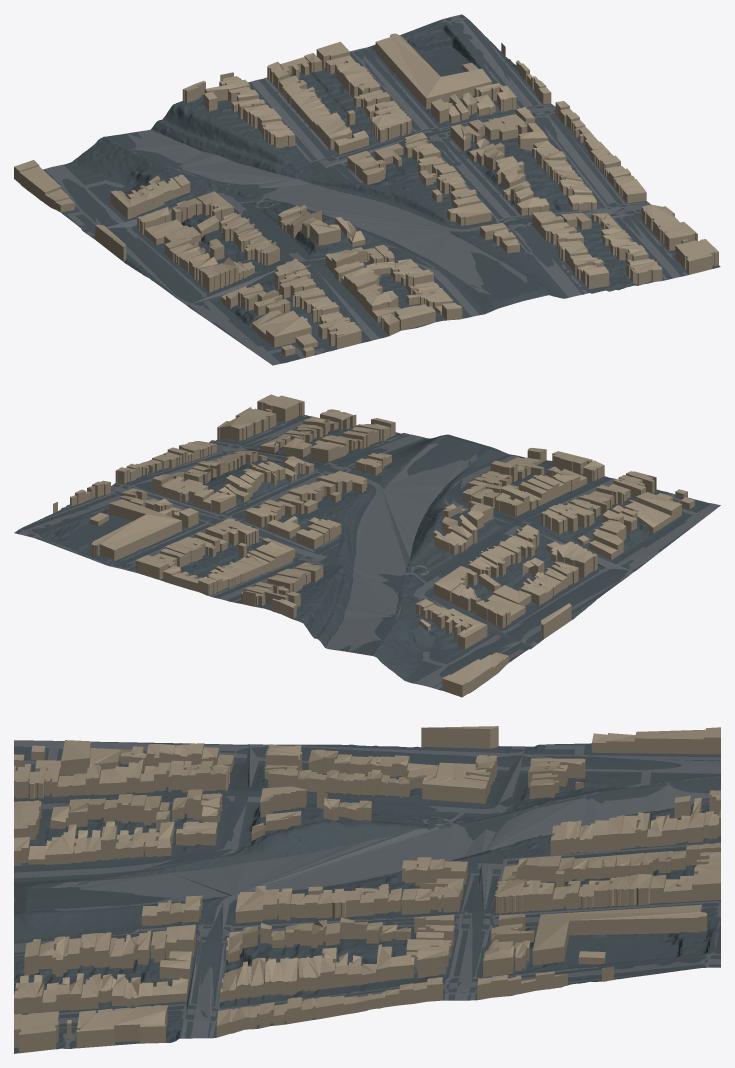
Rendered from epsg26910-1438-10884.lod0.glb.
3 views of the same model, one above another, from view 1: azimuth 30°, elevation 25°; view 2: azimuth 150°, elevation 25°; view 3: azimuth 270°, elevation 25° (orthographic). The views are drawn at different scales.
Visible parts, largest first — view 1: epsg26910-1438-10884-lod0; view 2: epsg26910-1438-10884-lod0; view 3: epsg26910-1438-10884-lod0.
Boxes of the visible parts, x1,y1,x2,y2 form: epsg26910-1438-10884-lod0: (14, 14, 720, 365); epsg26910-1438-10884-lod0: (14, 394, 720, 697); epsg26910-1438-10884-lod0: (14, 726, 720, 1053).
Size of the model in its own units: 384 by 53.98 by 384.
